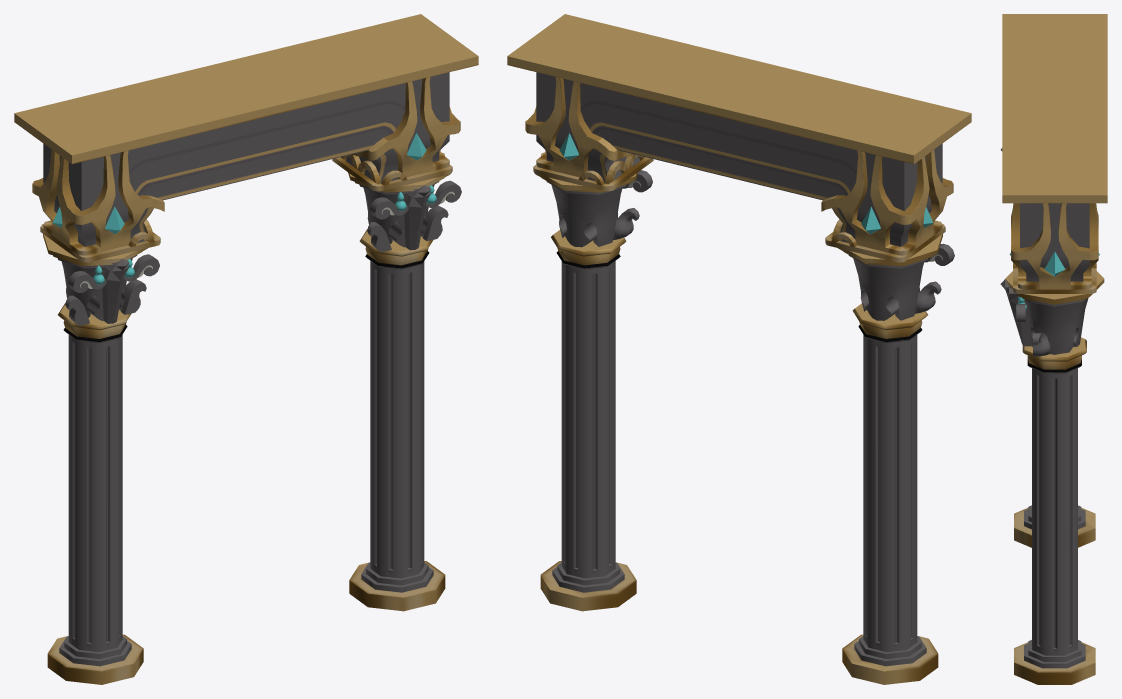
The model's file is Pillar_Final.FBX.
3 renders of one model, left to right at view 1: azimuth 30°, elevation 25°; view 2: azimuth 150°, elevation 25°; view 3: azimuth 270°, elevation 25°, orthographic. The views are drawn at different scales.
Visible parts, largest first — view 1: Pillar, Pillar_Metal, Pillar_Gem; view 2: Pillar, Pillar_Metal, Pillar_Gem; view 3: Pillar_Metal, Pillar, Pillar_Gem.
Boxes of the visible parts, x1,y1,x2,y2 form: Pillar: (43,72,461,666); Pillar_Metal: (14,14,478,684); Pillar_Gem: (53,133,436,284); Pillar: (536,72,954,666); Pillar_Metal: (507,14,971,684); Pillar_Gem: (559,133,932,234); Pillar_Metal: (1002,14,1107,684); Pillar: (1000,148,1089,668); Pillar_Gem: (1009,251,1099,309).
Size of the model in its own units: 254 by 324 by 63.35.
